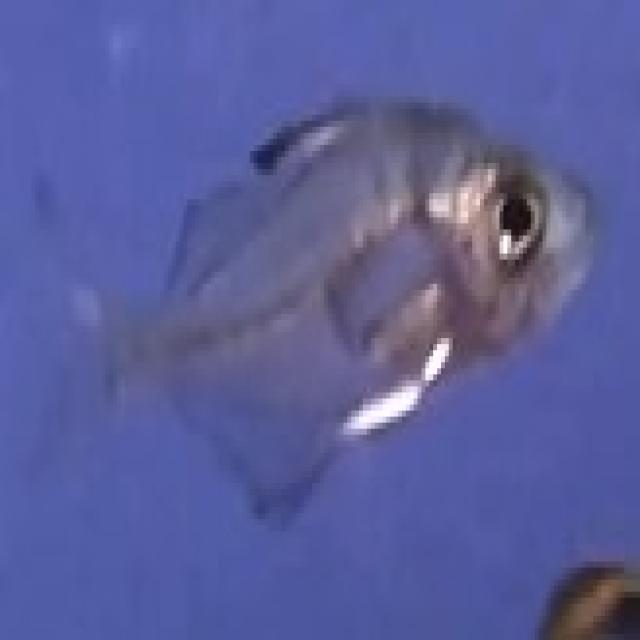Glass-Perchlet: (2, 83, 629, 552)
